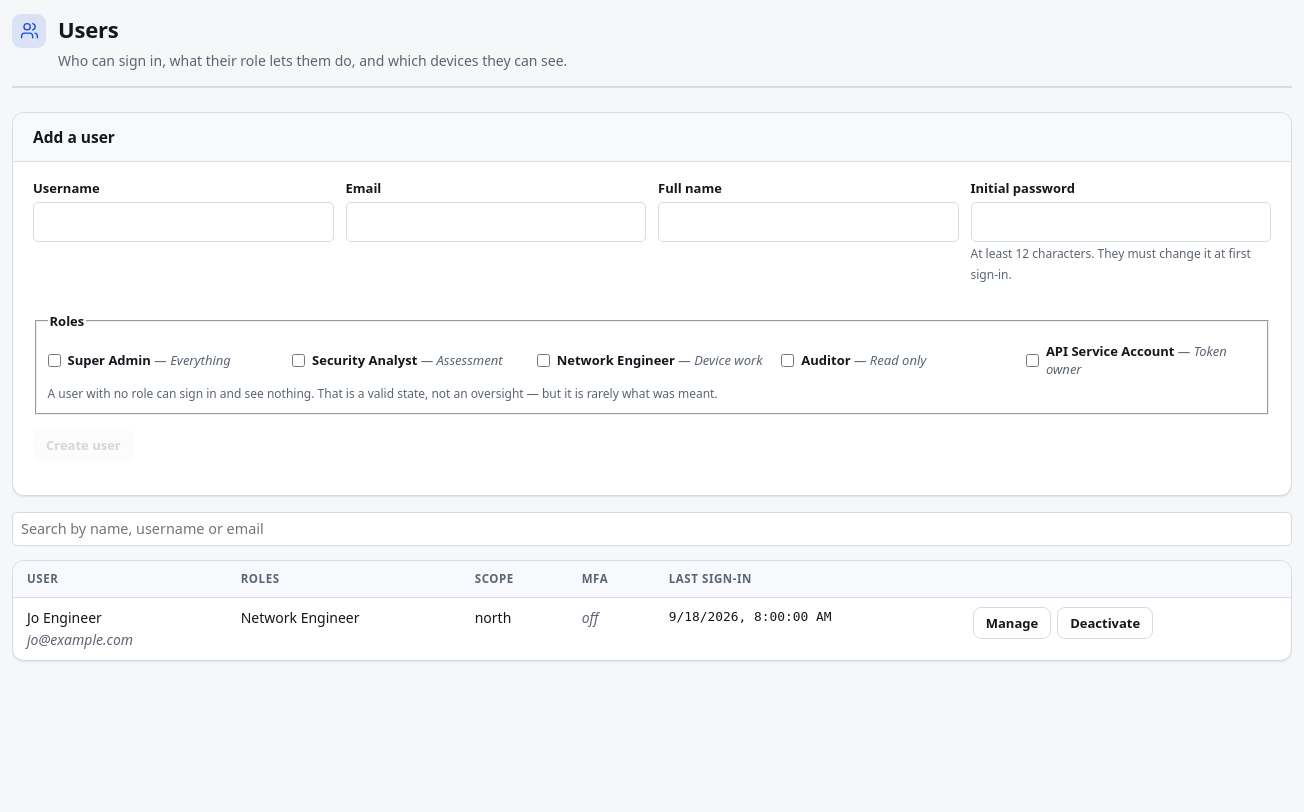
Test: UsersPage › creating a user › surfaces the password policy violations the server returns
This screenshot has width=1304, height=812.
Step 1. Type "weak" into the field labelled "Username" → point(183, 222), box [33, 202, 334, 242]
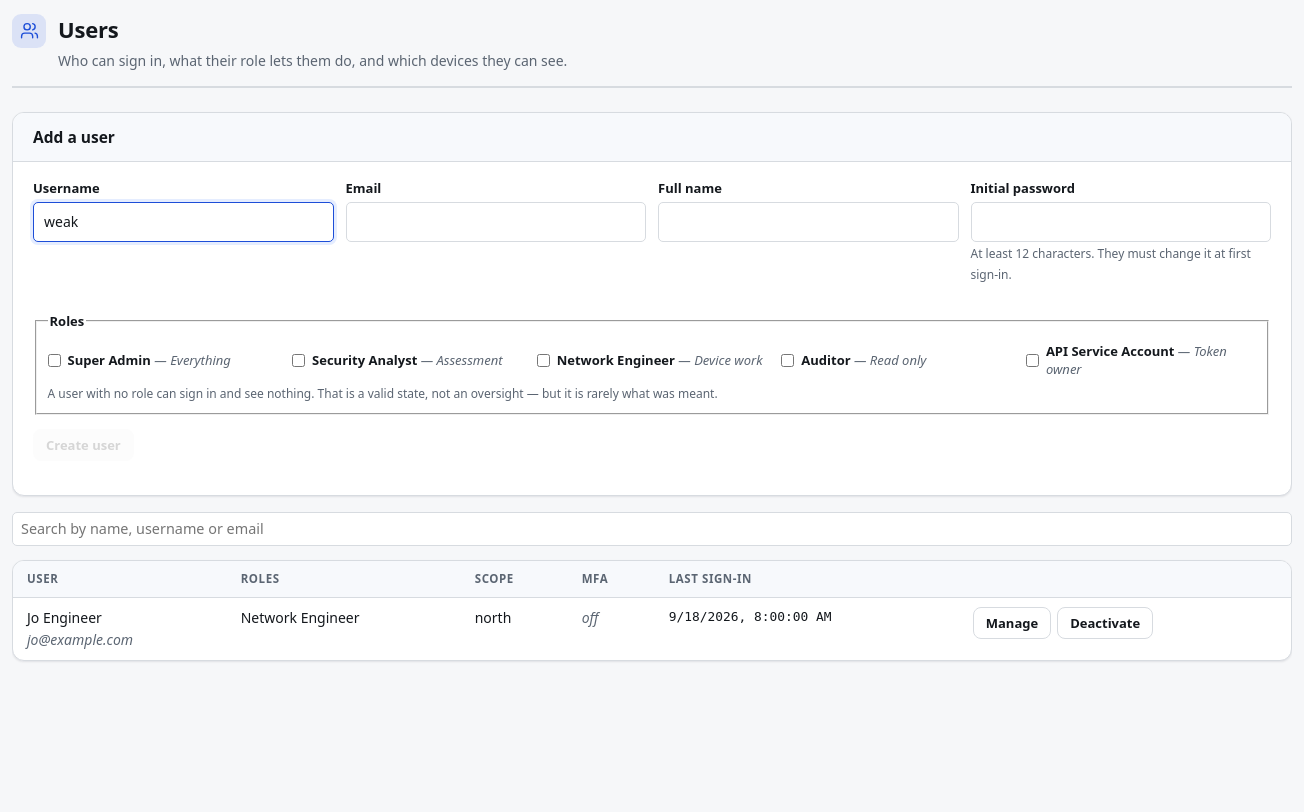
Step 2. Type "weak@example.com" into the field labelled "Email" → point(496, 222), box [346, 202, 646, 242]
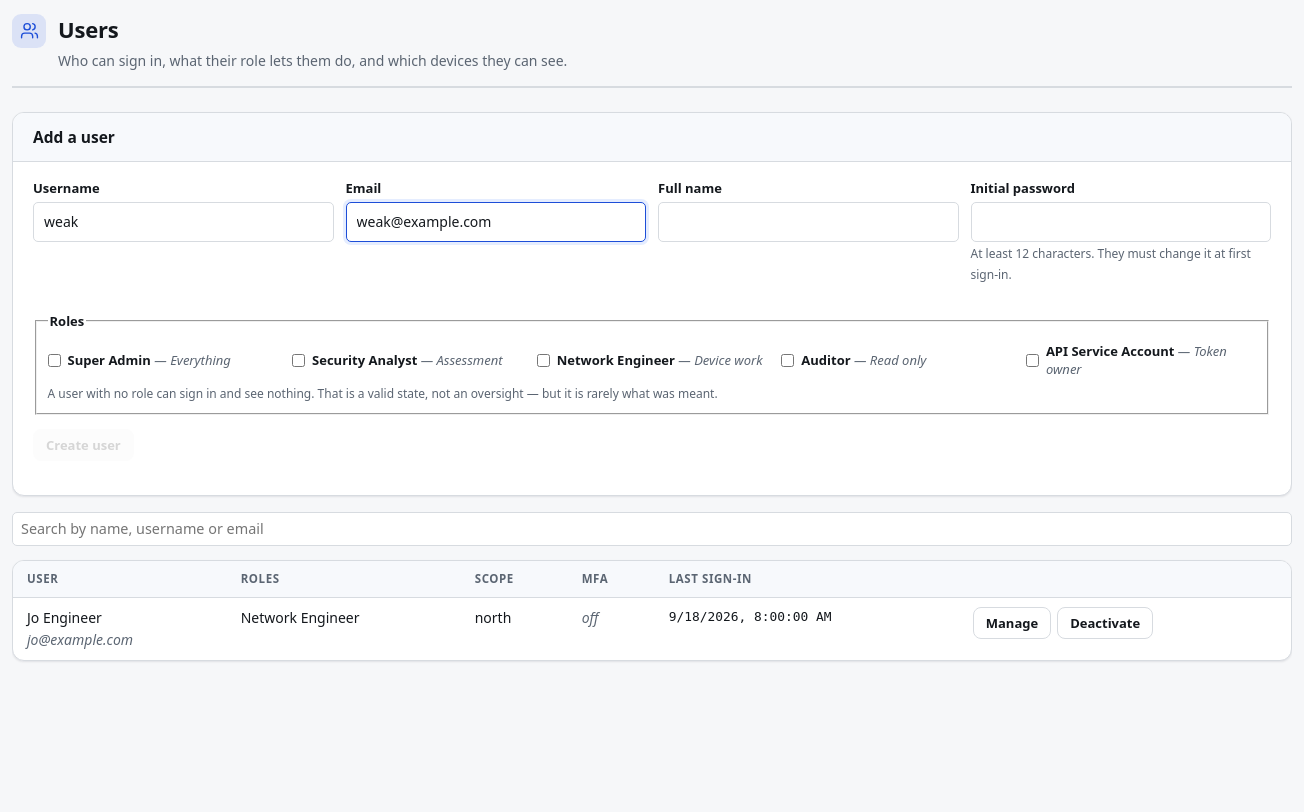
Step 3. Type "short" into the password field labelled "Initial password" → point(1121, 222), box [970, 202, 1271, 242]
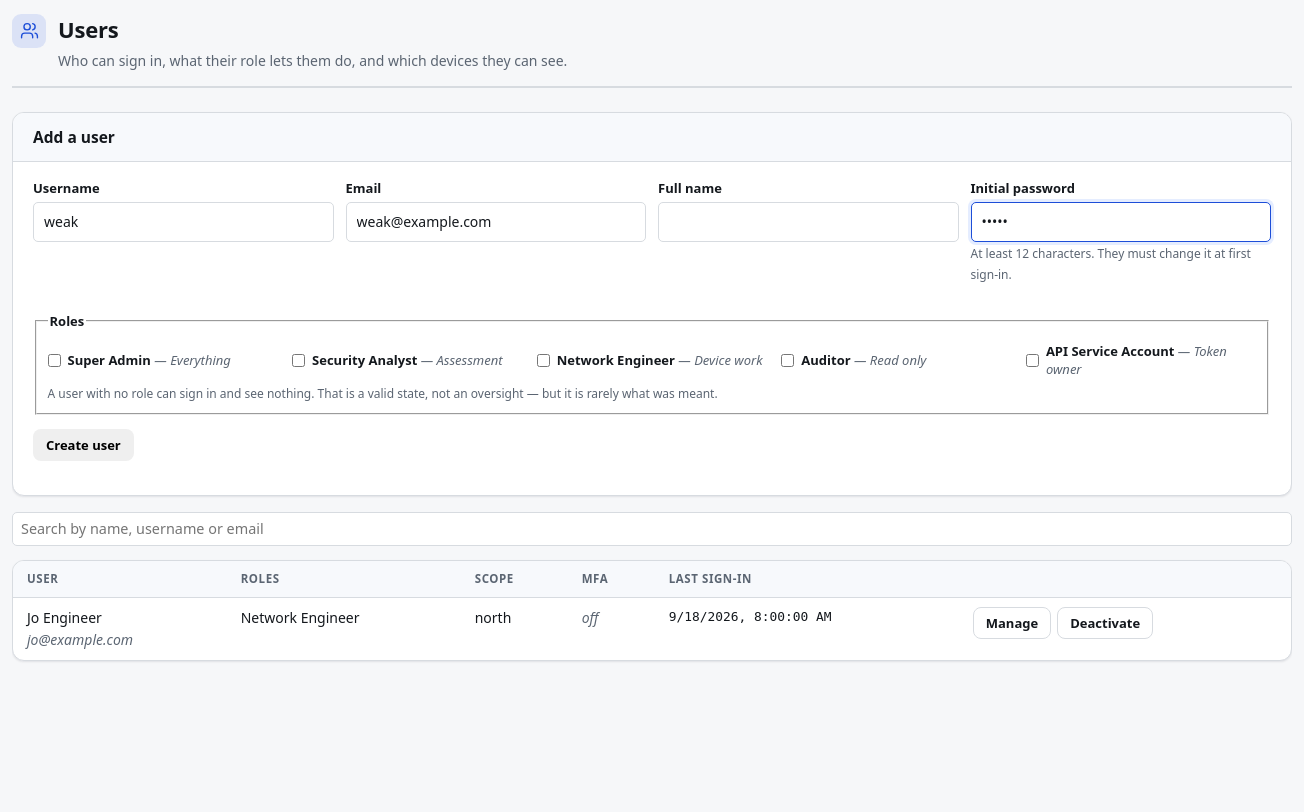
Step 4. Click the button "Create user" → point(83, 445), box [33, 429, 134, 461]
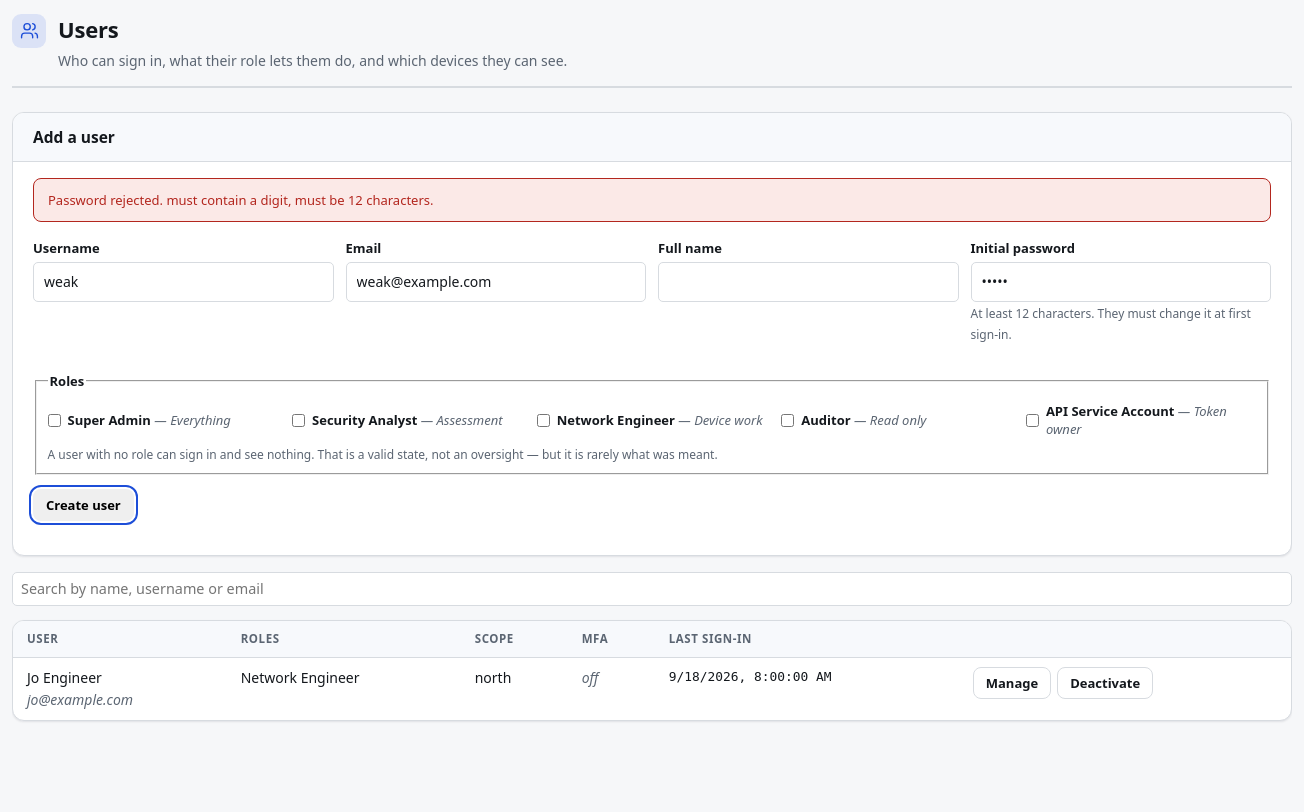
Result: the message shows "must contain a digit" at [48, 191, 434, 209]
